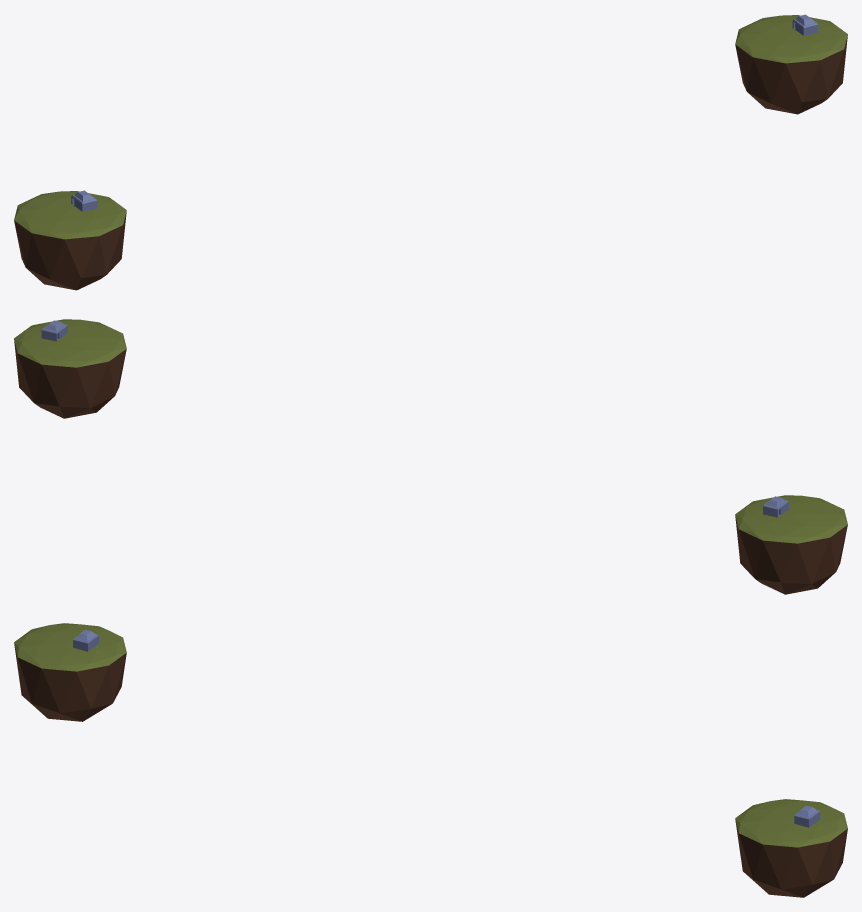
The model's file is Level2_Fin.fbx.
3 renders of one model, top to bottom at view 1: azimuth 30°, elevation 25°; view 2: azimuth 150°, elevation 25°; view 3: azimuth 330°, elevation 25°, orthographic.
Parts seen in each view (by area): view 1: Past_Floor, Future_Floor; view 2: Future_Floor, Past_Floor; view 3: Future_Floor, Past_Floor.
Part boxes in pixels (x1,y1,x2,y2): Past_Floor: [14, 191, 126, 290]; Future_Floor: [735, 15, 847, 114]; Future_Floor: [14, 319, 126, 418]; Past_Floor: [735, 495, 847, 594]; Future_Floor: [735, 799, 847, 897]; Past_Floor: [14, 623, 126, 721].
Size of the model in its own units: 283 by 29.25 by 34.64.
